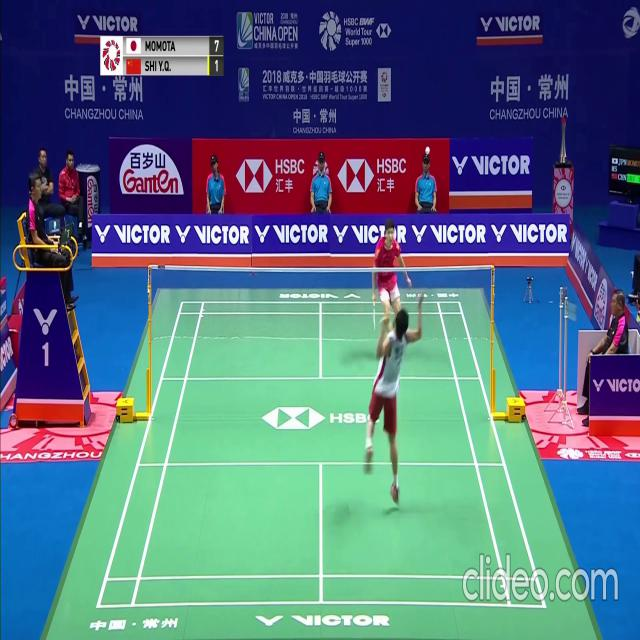Shuttlecock: (426, 147, 430, 154)
